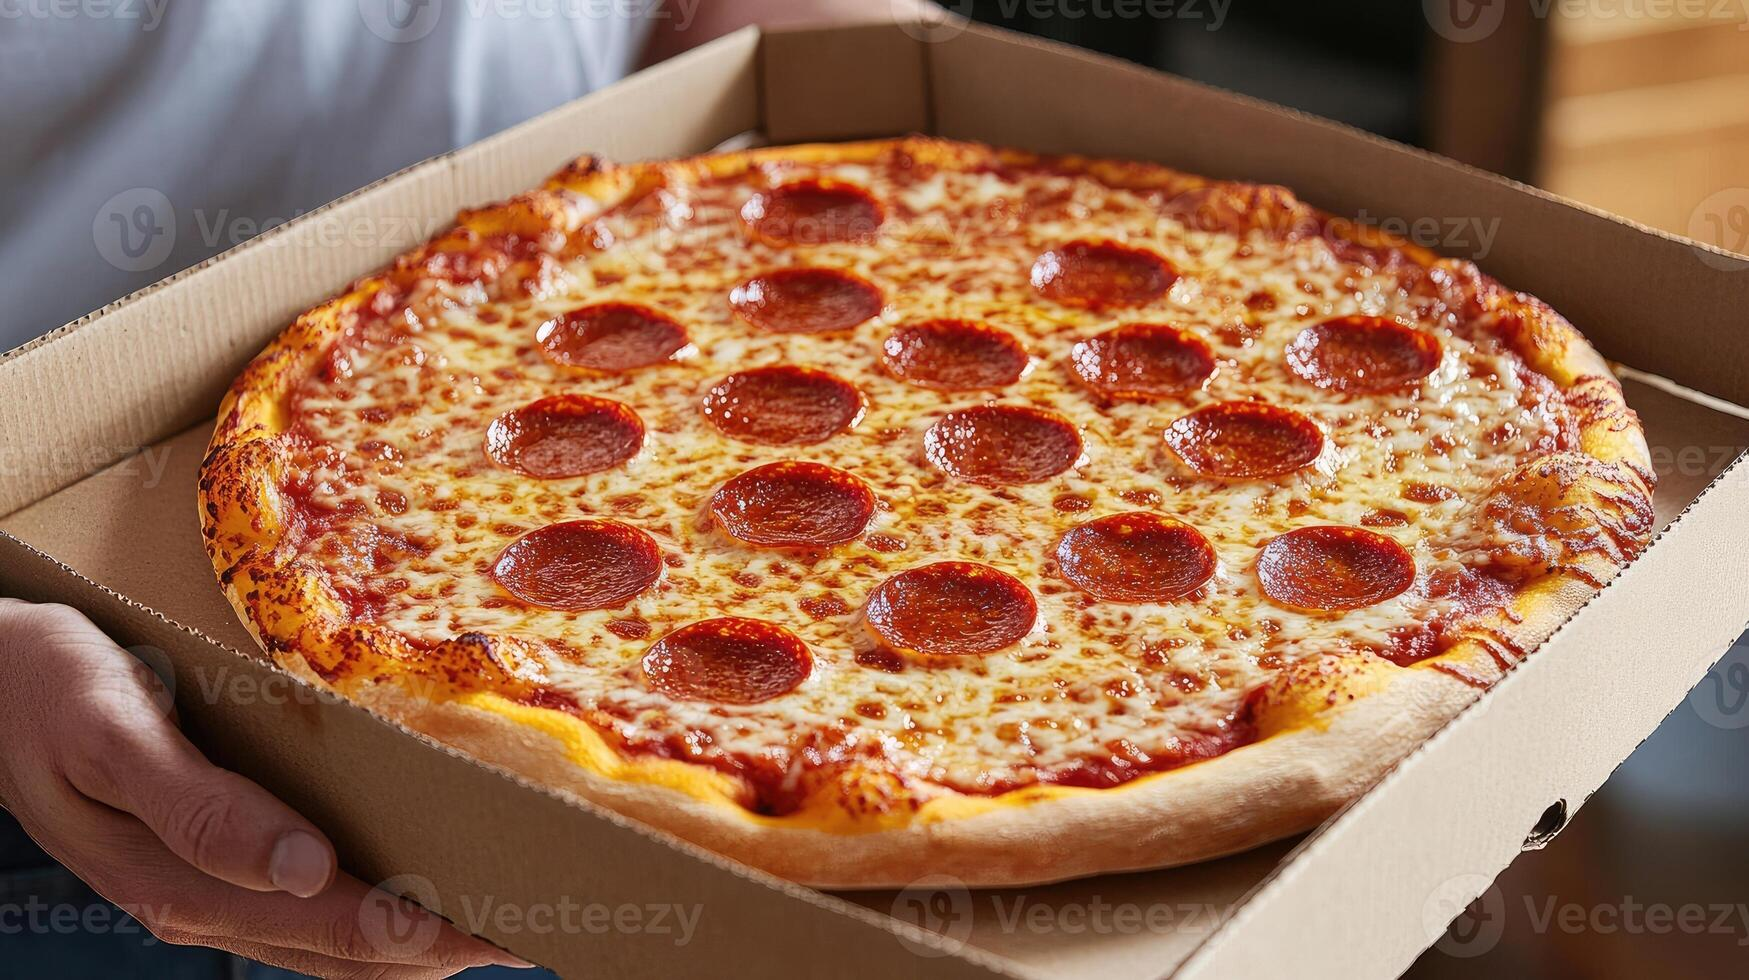Pepperoni: (848, 567, 1044, 664), (1040, 512, 1222, 608), (646, 616, 814, 716), (490, 522, 665, 611), (465, 393, 651, 476), (692, 465, 881, 546), (909, 407, 1087, 489), (705, 359, 865, 446), (532, 298, 698, 378), (1256, 532, 1413, 609), (1162, 404, 1321, 478), (724, 178, 891, 249), (1059, 327, 1216, 401), (873, 316, 1021, 393), (728, 264, 888, 334), (1289, 319, 1438, 393), (1026, 245, 1178, 304)
Pizza: (190, 137, 1661, 891)
